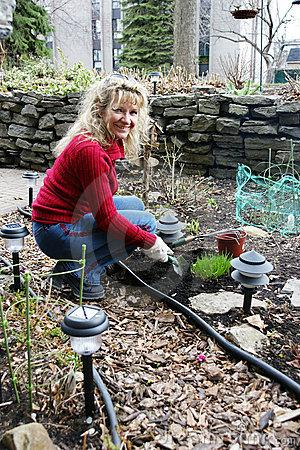person: (31, 72, 172, 305)
